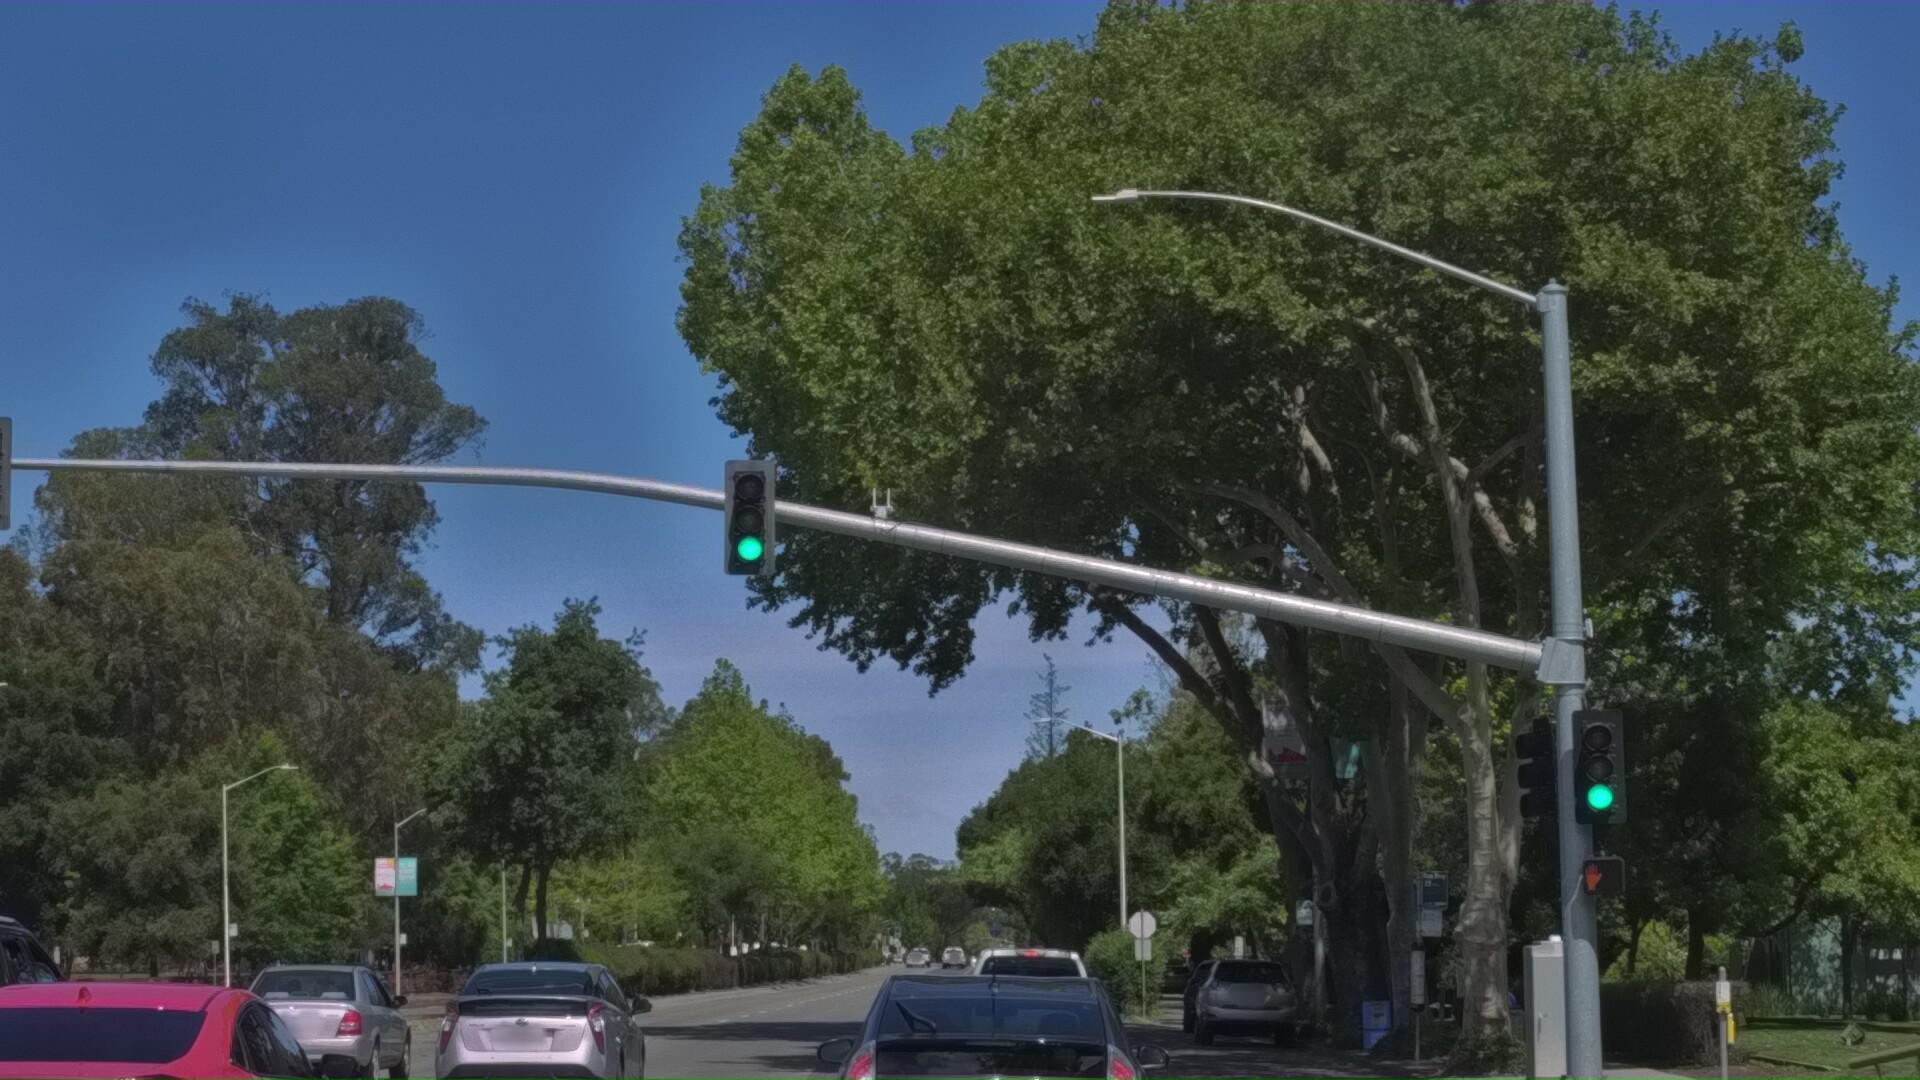car: (0, 1004, 402, 1080), (781, 1018, 1207, 1080), (0, 956, 119, 1080), (415, 1022, 665, 1080), (229, 1025, 443, 1080), (953, 1010, 1116, 1080), (1189, 1036, 1304, 1080)
